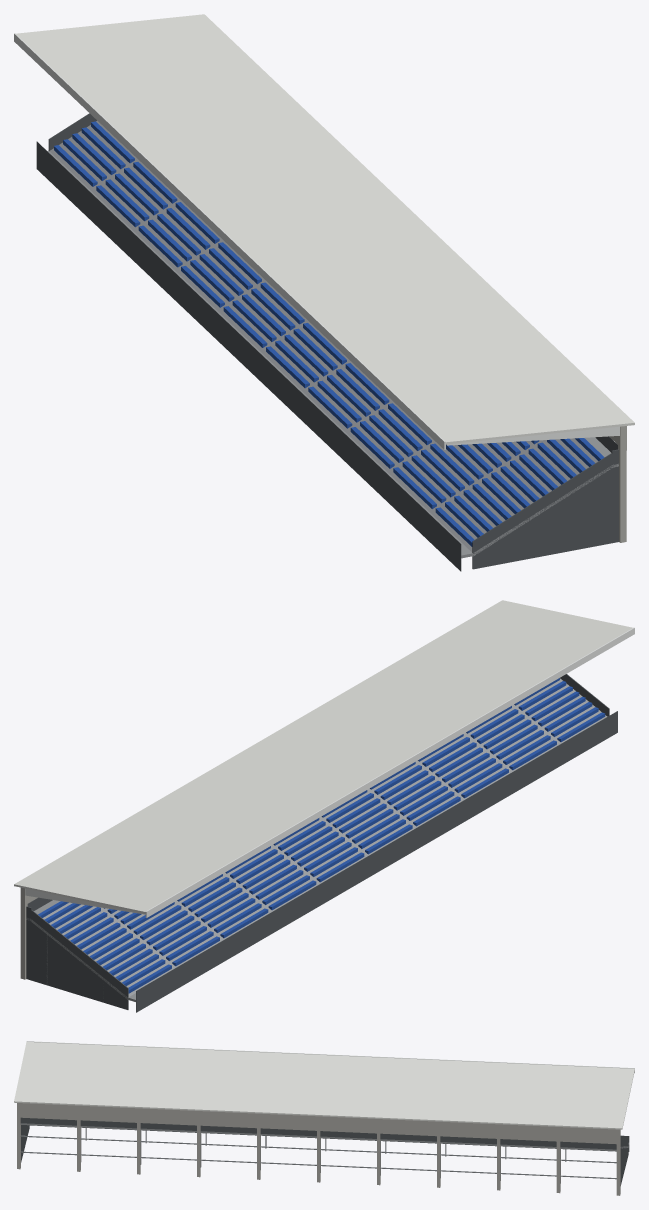
The model's file is mza_stand_parabolica.glb.
3 renders of one model, top to bottom at view 1: azimuth 30°, elevation 25°; view 2: azimuth 150°, elevation 25°; view 3: azimuth 270°, elevation 25°, orthographic. The views are drawn at different scales.
Visible parts, largest first — view 1: monza-parabolica; view 2: monza-parabolica; view 3: monza-parabolica.
Boxes of the visible parts, <box> form: monza-parabolica: <box>14,14,634,571</box>; monza-parabolica: <box>14,600,634,1012</box>; monza-parabolica: <box>14,1041,634,1195</box>.
Bounding box in the file's own units: 25.04 × 11.85 × 84.57.
